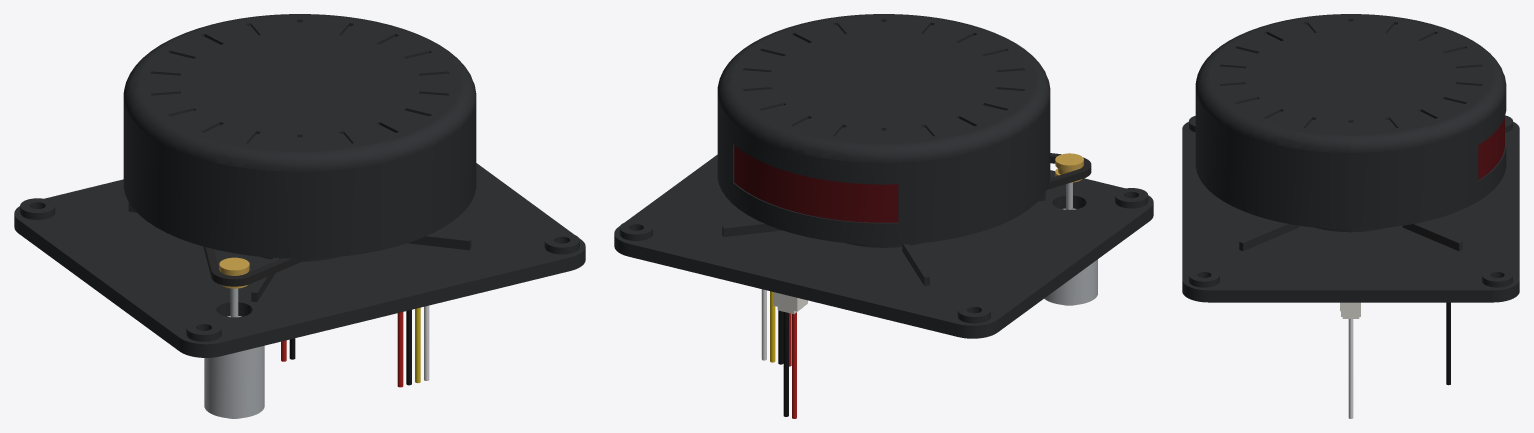
The model's file is lidar-turret.glb.
3 views of the same model, side by side, from view 1: azimuth 30°, elevation 25°; view 2: azimuth 150°, elevation 25°; view 3: azimuth 270°, elevation 25° (orthographic). The views are drawn at different scales.
Visible parts, largest first — view 1: head_cover, base_frame, motor, belt, motor_pulley, wire_1; view 2: head_cover, base_frame, window, motor, belt, wire_2, motor_pulley, wire_1; view 3: head_cover, base_frame, window, wire_4, wire_2.
Part boxes in pixels (left/top/right/bottom): head_cover: left=123, top=14, right=476, bottom=258; base_frame: left=14, top=163, right=585, bottom=357; motor: left=204, top=316, right=264, bottom=418; belt: left=203, top=246, right=308, bottom=286; motor_pulley: left=219, top=257, right=249, bottom=288; wire_1: left=397, top=312, right=403, bottom=387; head_cover: left=717, top=14, right=1050, bottom=244; base_frame: left=614, top=154, right=1153, bottom=338; window: left=734, top=145, right=898, bottom=222; motor: left=1044, top=208, right=1097, bottom=305; belt: left=1046, top=153, right=1091, bottom=189; wire_2: left=783, top=312, right=788, bottom=416; motor_pulley: left=1055, top=153, right=1083, bottom=182; wire_1: left=792, top=312, right=796, bottom=418; head_cover: left=1195, top=14, right=1506, bottom=229; base_frame: left=1182, top=115, right=1519, bottom=302; window: left=1478, top=117, right=1504, bottom=179; wire_4: left=1348, top=319, right=1353, bottom=418; wire_2: left=1446, top=302, right=1450, bottom=385.
Size of the model in its own units: 0.092 by 0.0716 by 0.076.
